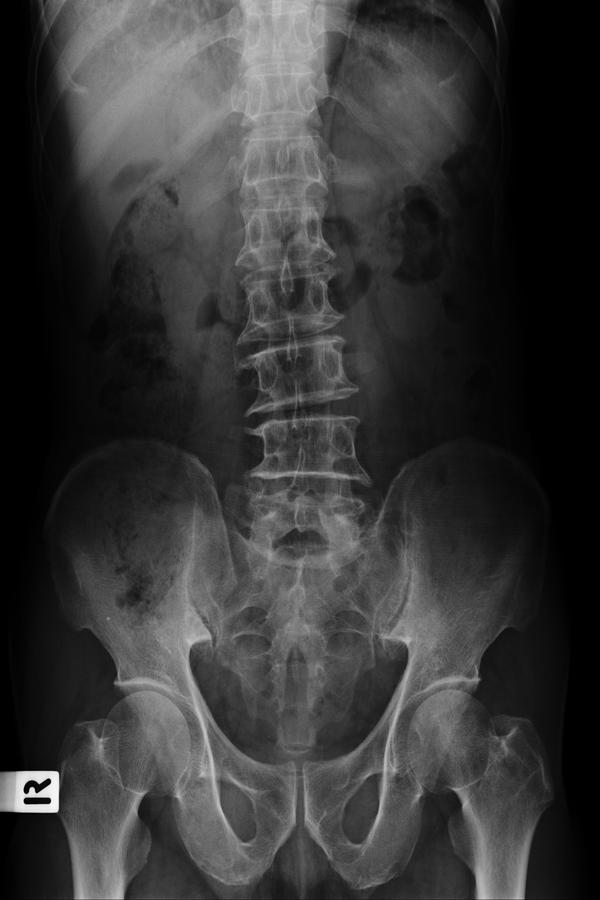lumbar scoliosis: (228, 11, 370, 559)
